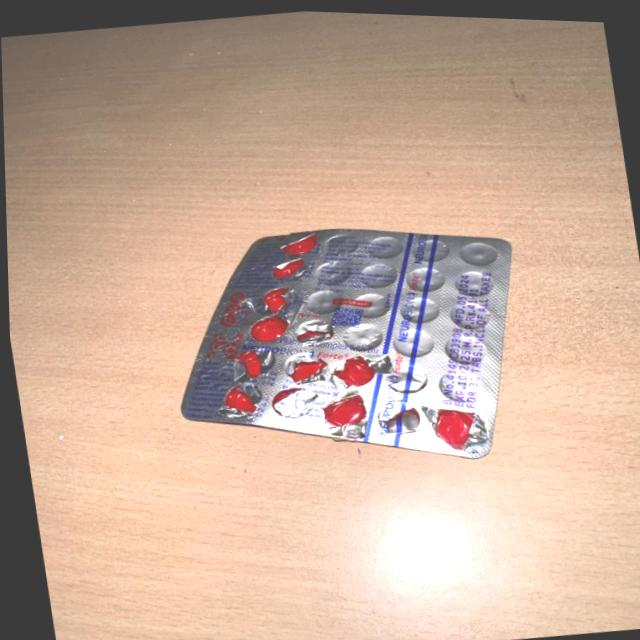medicine: (153, 223, 541, 458)
